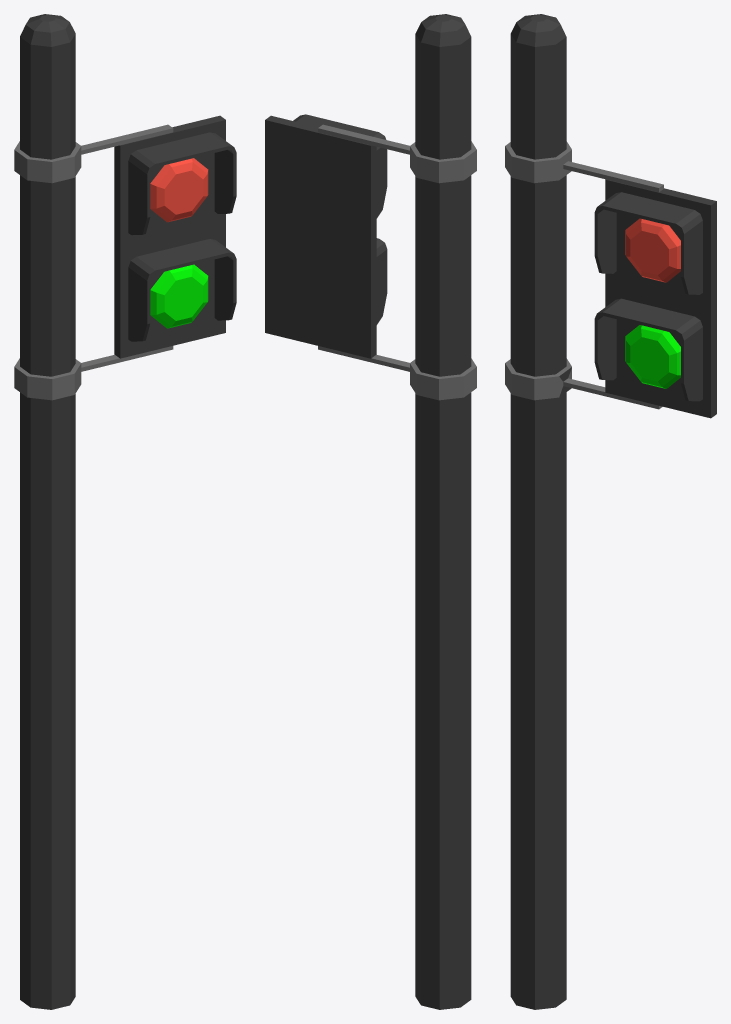
The model's file is sign_light_traffic.fbx.
3 views of the same model, side by side, from view 1: azimuth 30°, elevation 25°; view 2: azimuth 150°, elevation 25°; view 3: azimuth 330°, elevation 25° (orthographic).
Visible parts, largest first — view 1: traffic_light_pole, traffic_light; view 2: traffic_light_pole, traffic_light; view 3: traffic_light_pole, traffic_light.
Part boxes in pixels (box(x1,y1,x2,y2)): traffic_light_pole: box(14, 14, 173, 1009); traffic_light: box(114, 115, 236, 358); traffic_light_pole: box(318, 14, 476, 1009); traffic_light: box(265, 114, 387, 358); traffic_light_pole: box(505, 14, 663, 1009); traffic_light: box(594, 179, 716, 418).
Size of the model in its own units: 49.73 by 230 by 15.88.
